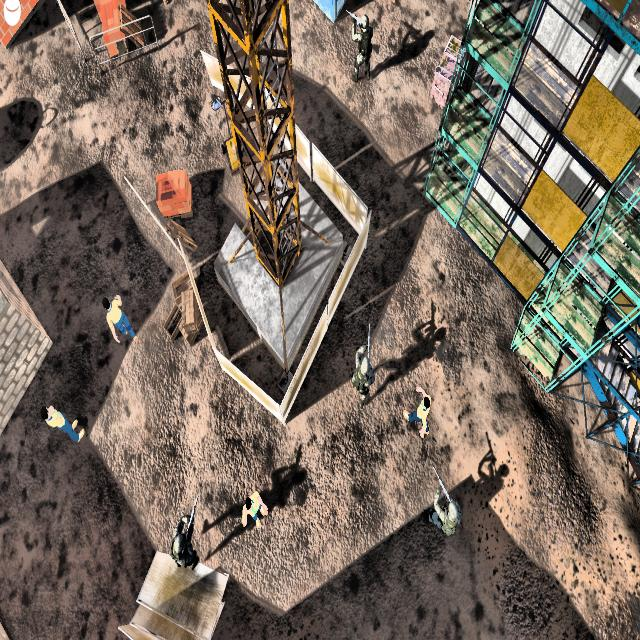bad: (419, 465, 462, 555), (342, 322, 379, 415), (162, 501, 204, 577), (349, 7, 377, 82)
good: (98, 278, 142, 356), (398, 364, 436, 448), (42, 393, 91, 449), (230, 480, 274, 536)
